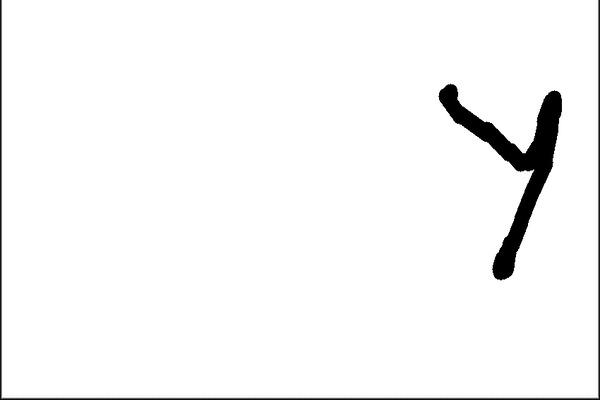Y: (420, 73, 571, 288)
